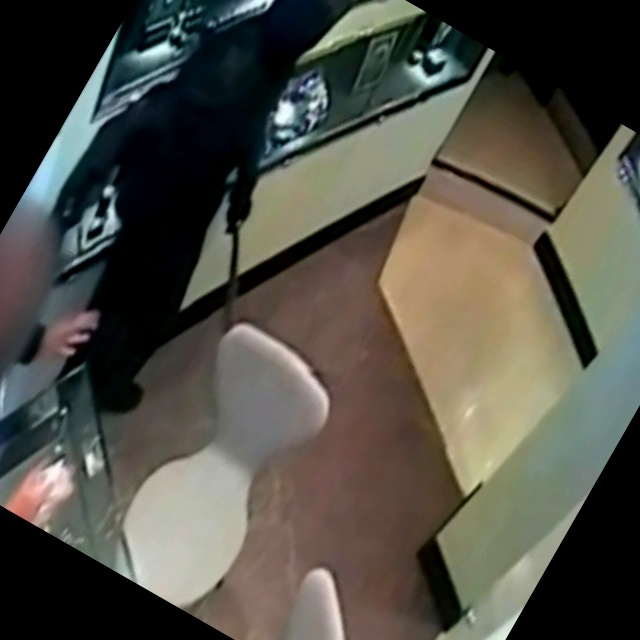gun: (177, 207, 285, 329)
